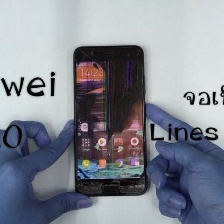phone: (69, 37, 151, 200)
